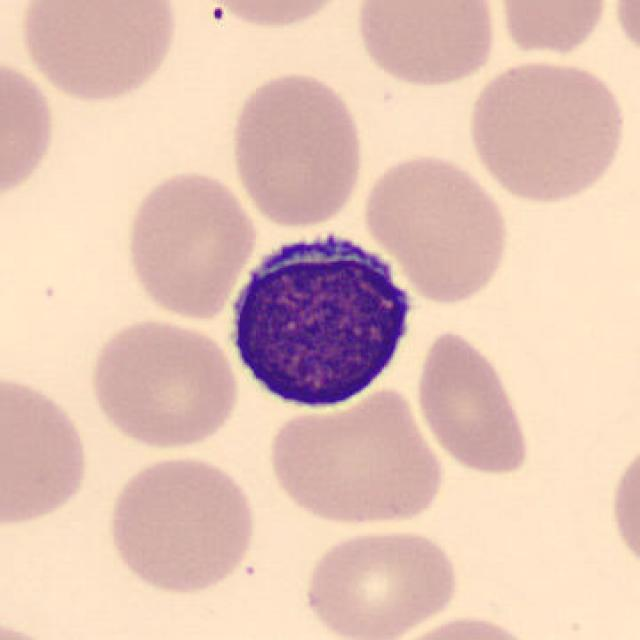Lymphocyte: (219, 219, 425, 416)
RBC: (265, 382, 448, 530), (464, 55, 631, 206), (359, 148, 514, 305), (102, 451, 260, 598), (226, 67, 368, 229), (85, 314, 244, 453), (121, 165, 259, 322), (299, 522, 462, 640), (412, 324, 534, 480), (14, 0, 183, 106), (0, 367, 94, 530), (351, 0, 502, 90), (0, 53, 59, 210), (492, 0, 612, 58), (198, 0, 356, 32), (606, 436, 640, 578), (379, 612, 544, 640), (608, 0, 640, 72), (0, 615, 73, 640)
